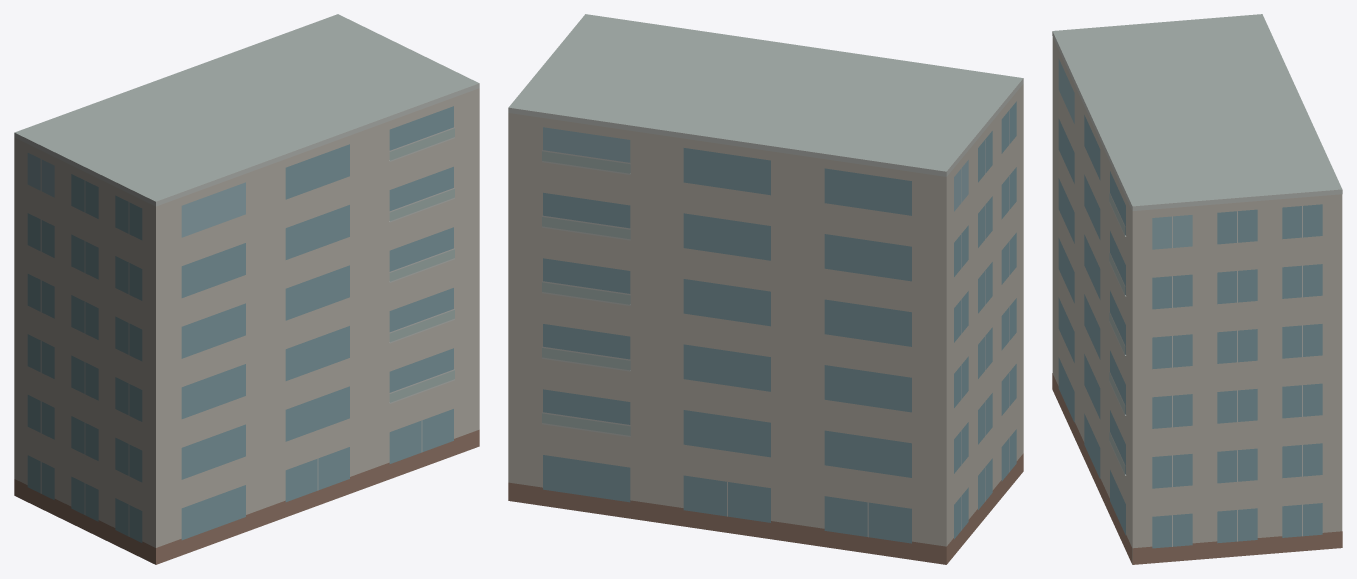
File: survey-upis-32641913.glb
3 renders of one model, left to right at view 1: azimuth 30°, elevation 25°; view 2: azimuth 150°, elevation 25°; view 3: azimuth 270°, elevation 25°, orthographic. The views are drawn at different scales.
Visible parts, largest first — view 1: survey-upis-32641913.tmp; view 2: survey-upis-32641913.tmp; view 3: survey-upis-32641913.tmp.
Part boxes in pixels (x1,y1,x2,y2): survey-upis-32641913.tmp: (14,14,479,564); survey-upis-32641913.tmp: (508,14,1023,564); survey-upis-32641913.tmp: (1052,14,1342,564).
Bounding box in the file's own units: 21.07 × 18.3 × 13.43.
